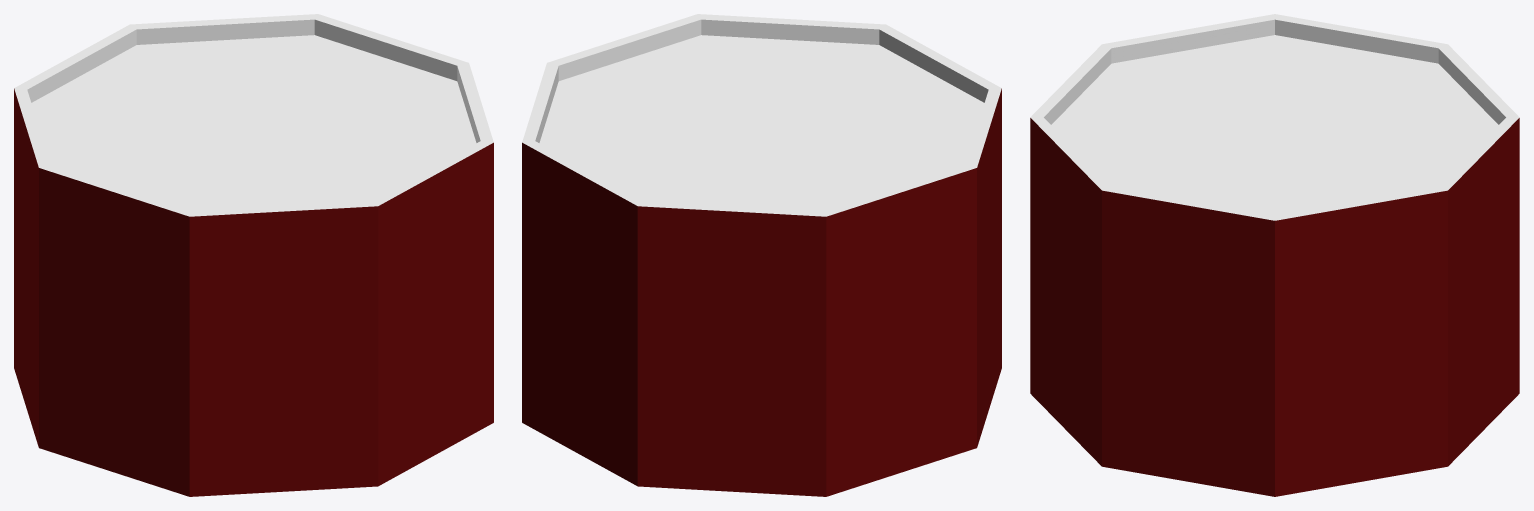
The model's file is Condensed Milk.fbx.
3 renders of one model, left to right at view 1: azimuth 30°, elevation 25°; view 2: azimuth 150°, elevation 25°; view 3: azimuth 270°, elevation 25°, orthographic.
Visible parts, largest first — view 1: Condensed Milk; view 2: Condensed Milk; view 3: Condensed Milk.
Boxes of the visible parts, x1=… form: Condensed Milk: x1=14, y1=14, x2=493, y2=496; Condensed Milk: x1=522, y1=14, x2=1001, y2=496; Condensed Milk: x1=1030, y1=14, x2=1519, y2=496.
Bounding box in the file's own units: 55.56 × 55.56 × 34.59.
